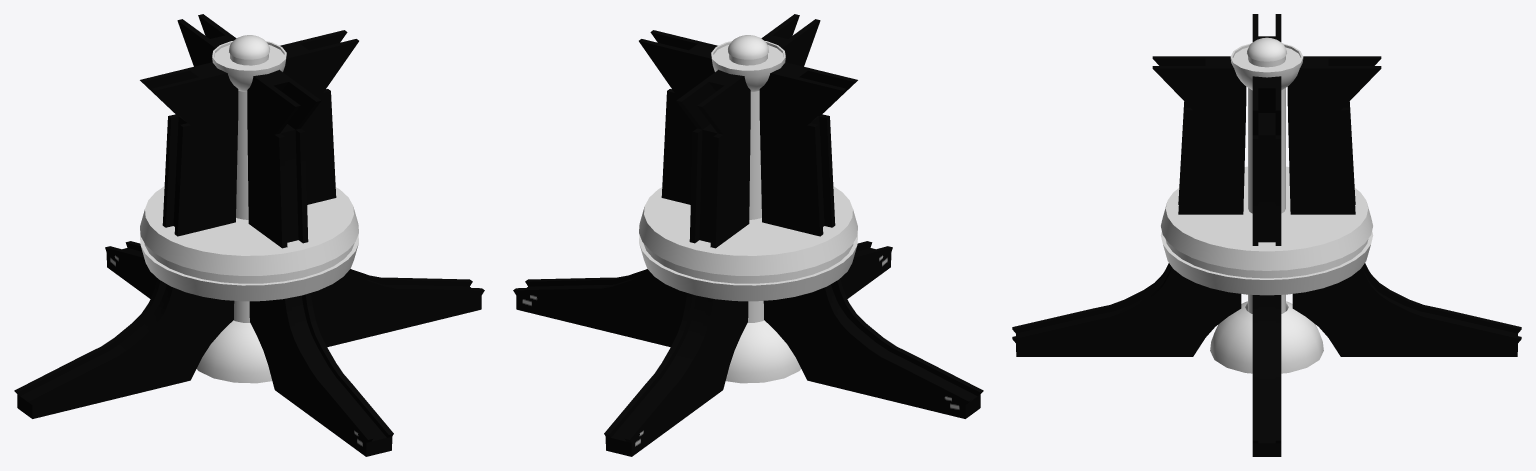
File: Monuement_des_martyrs.fbx
3 renders of one model, left to right at view 1: azimuth 30°, elevation 25°; view 2: azimuth 150°, elevation 25°; view 3: azimuth 270°, elevation 25°, orthographic. The views are drawn at different scales.
Visible parts, largest first — view 1: Cube, Cube.010, Cylinder.007, Sphere.001, Sphere.004, Sphere, Sphere.002; view 2: Cube, Cube.010, Cylinder.007, Sphere.001, Sphere.004, Sphere, Sphere.002; view 3: Cube.010, Cylinder.007, Cube, Sphere.001, Sphere, Sphere.004, Sphere.002.
Part boxes in pixels (<box>): Cube: <box>14,30,484,418</box>; Cube.010: <box>105,14,393,456</box>; Cylinder.007: <box>140,186,358,301</box>; Sphere.001: <box>196,320,272,383</box>; Sphere.004: <box>234,91,250,322</box>; Sphere: <box>212,41,286,91</box>; Sphere.002: <box>229,35,269,59</box>; Cube: <box>513,30,983,418</box>; Cube.010: <box>604,14,892,456</box>; Cylinder.007: <box>639,186,857,301</box>; Sphere.001: <box>725,320,801,383</box>; Sphere.004: <box>747,91,763,322</box>; Sphere: <box>711,41,785,91</box>; Sphere.002: <box>728,35,768,59</box>; Cube.010: <box>1012,56,1521,356</box>; Cylinder.007: <box>1160,166,1373,295</box>; Cube: <box>1252,14,1281,456</box>; Sphere.001: <box>1210,301,1323,373</box>; Sphere: <box>1230,43,1303,90</box>; Sphere.004: <box>1248,88,1285,313</box>; Sphere.002: <box>1247,37,1286,61</box>.
Bounding box in the file's own units: 159 × 107 × 159.
Materials: 1 (1 with a texture image).
